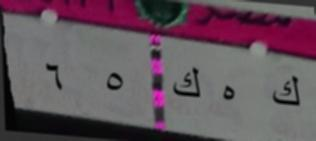5: (98, 64, 130, 95)
6: (43, 60, 68, 97)
haa: (220, 78, 240, 112)
kaaf: (268, 68, 303, 114), (170, 57, 202, 106)
